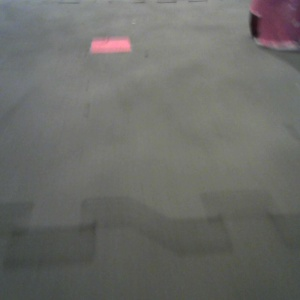Right: (200, 1, 273, 68)
